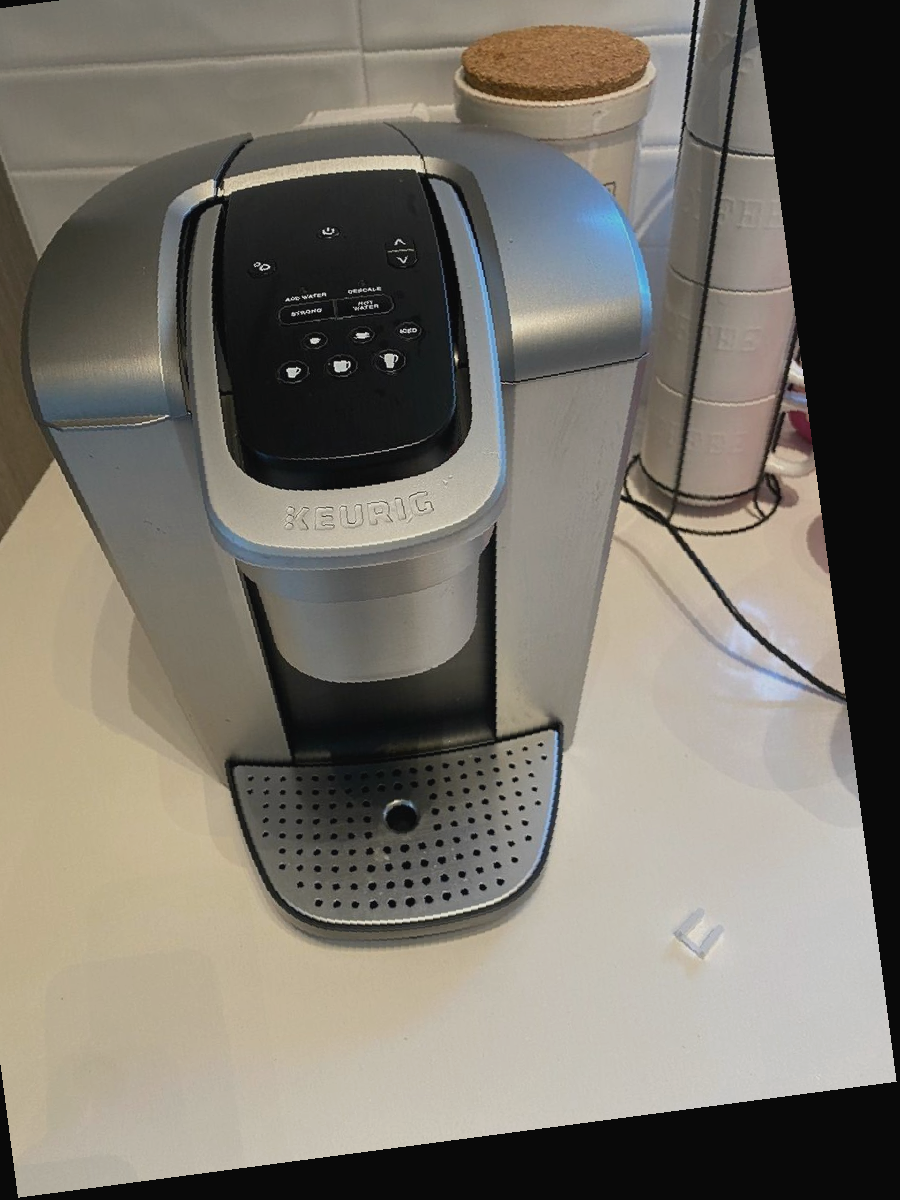10oz: (324, 353, 359, 379)
12oz: (373, 347, 409, 376)
4oz: (302, 330, 331, 351)
6oz: (349, 325, 378, 345)
8oz: (276, 359, 310, 385)
add_water: (272, 276, 335, 306)
coffee_handle: (254, 524, 478, 586)
descale: (333, 269, 396, 298)
hot: (334, 291, 397, 320)
iced: (394, 320, 423, 342)
platform: (378, 793, 427, 839)
power: (316, 222, 344, 243)
strong: (274, 298, 337, 328)
water_handle: (44, 413, 172, 437)
